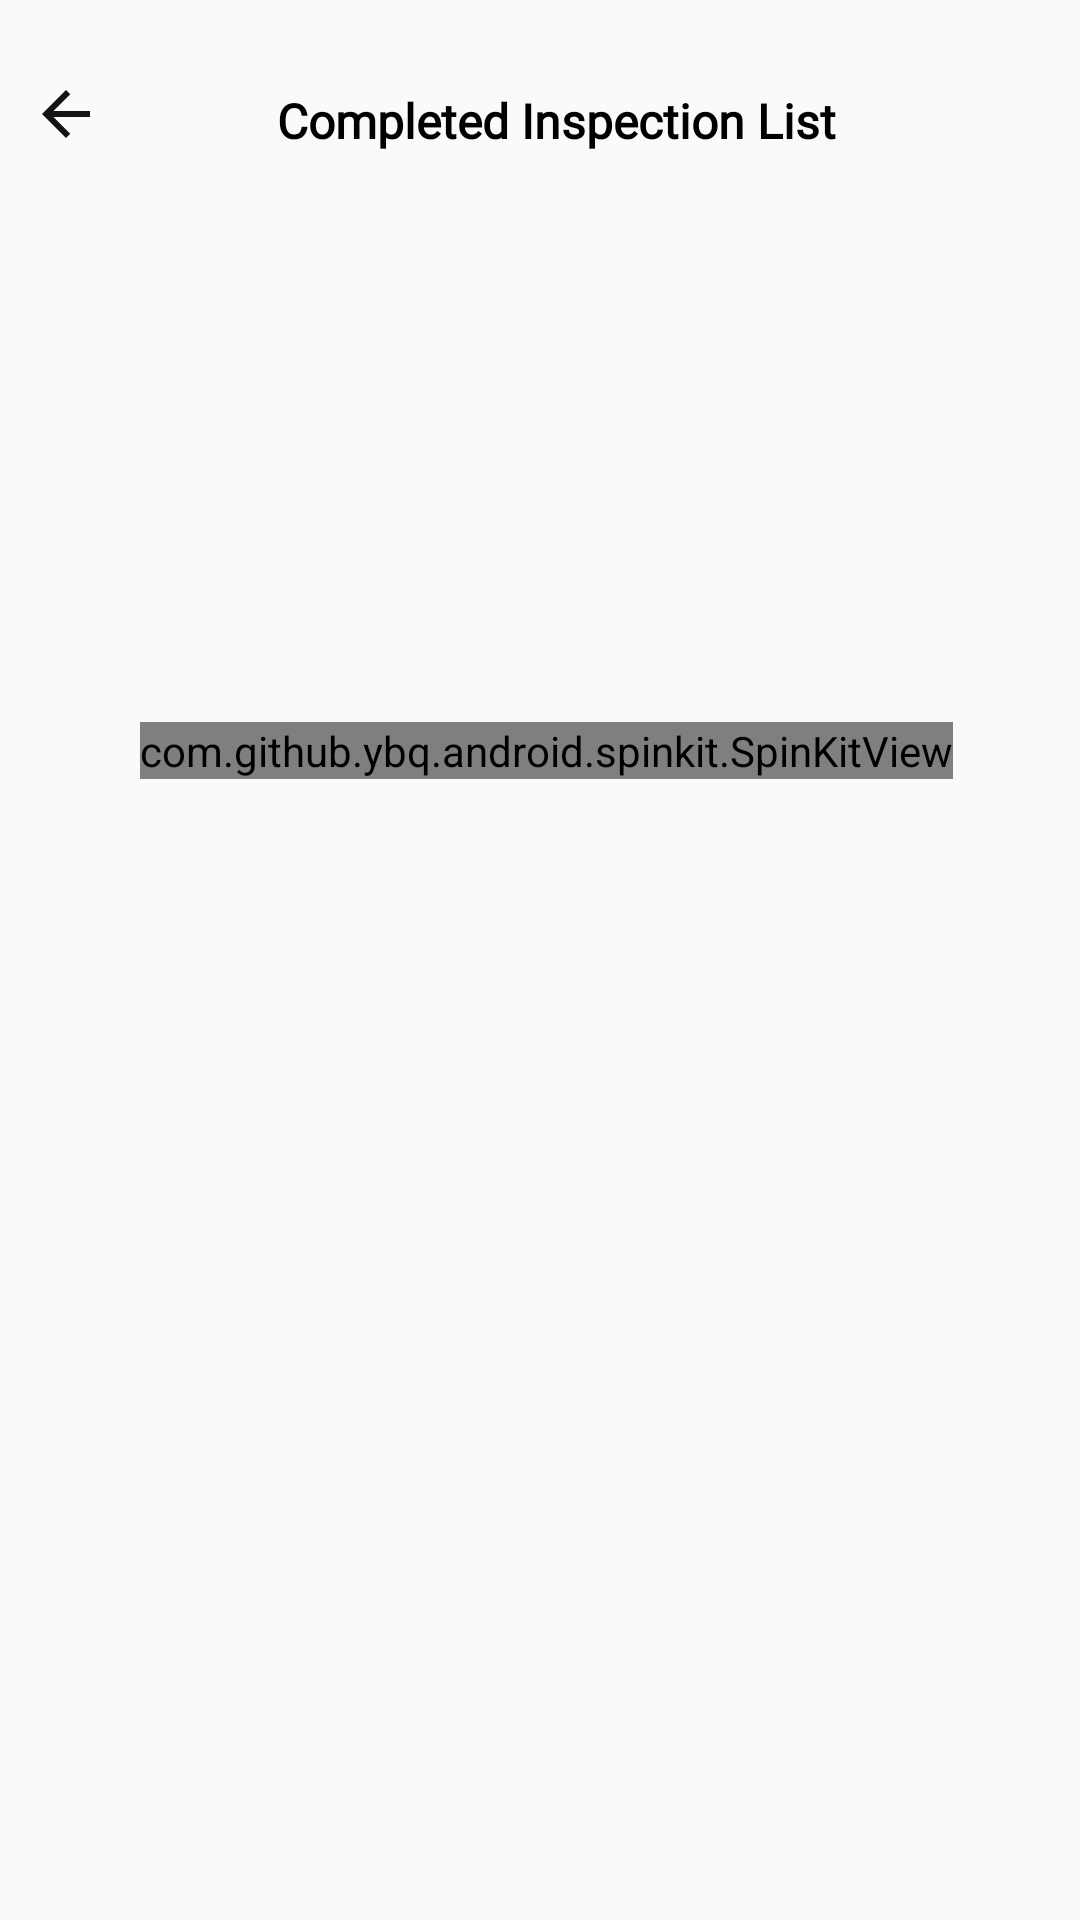

Named icons in this screenshot (1080px x 1920px) and their centers, (x=x, y=y):
back arrow: (x=66, y=114)
